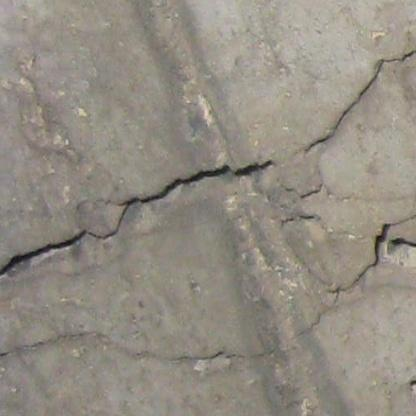Cracks: (0, 158, 278, 285), (303, 46, 416, 156), (326, 211, 416, 310), (175, 348, 227, 366), (294, 312, 326, 341), (297, 181, 327, 204), (297, 213, 321, 225)
